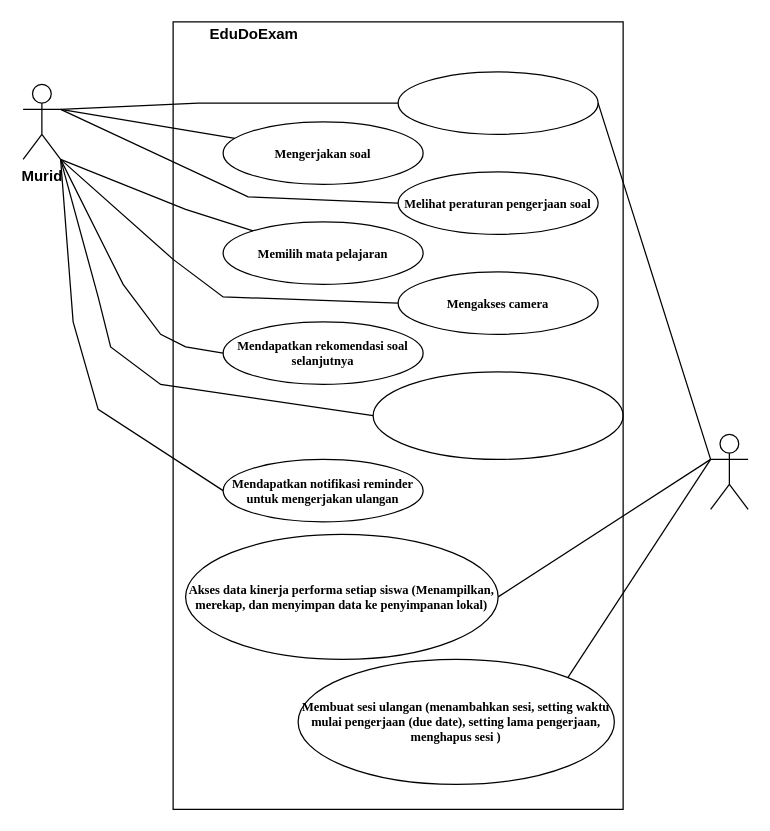
Some shapes in this 770 by 831 pixel diagram are drawn without their labels. Each missing label, with the centre of its shape:
"Daftar / Login" goes at [497,102].
"Guru" goes at [728,471].
"Melihat performa pengerjaan soal setelah mengerjakan melalui diagram" goes at [497,415].
